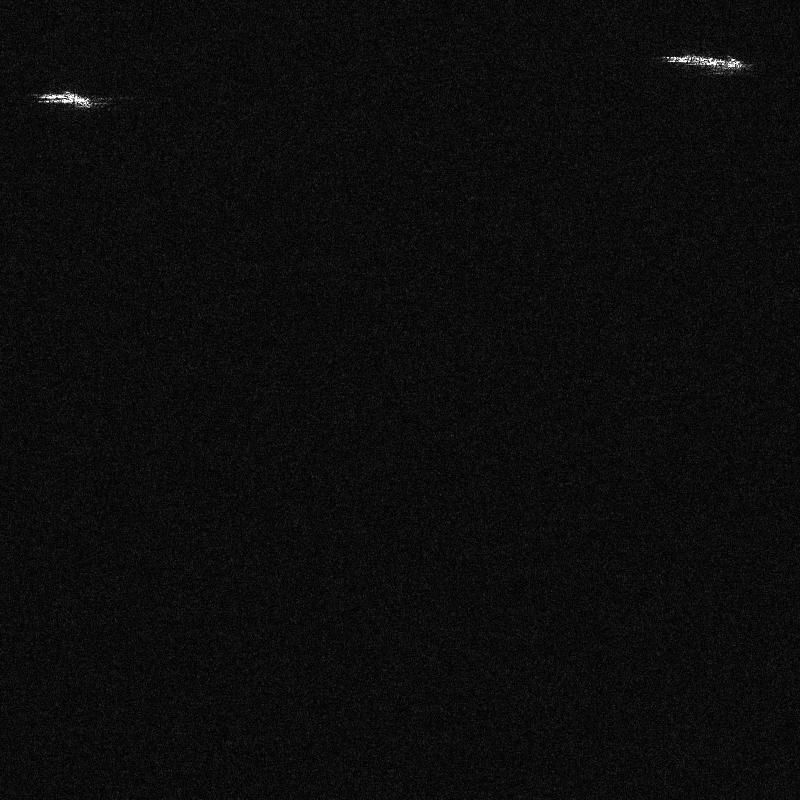ship: (666, 54, 742, 69), (39, 90, 90, 107)
